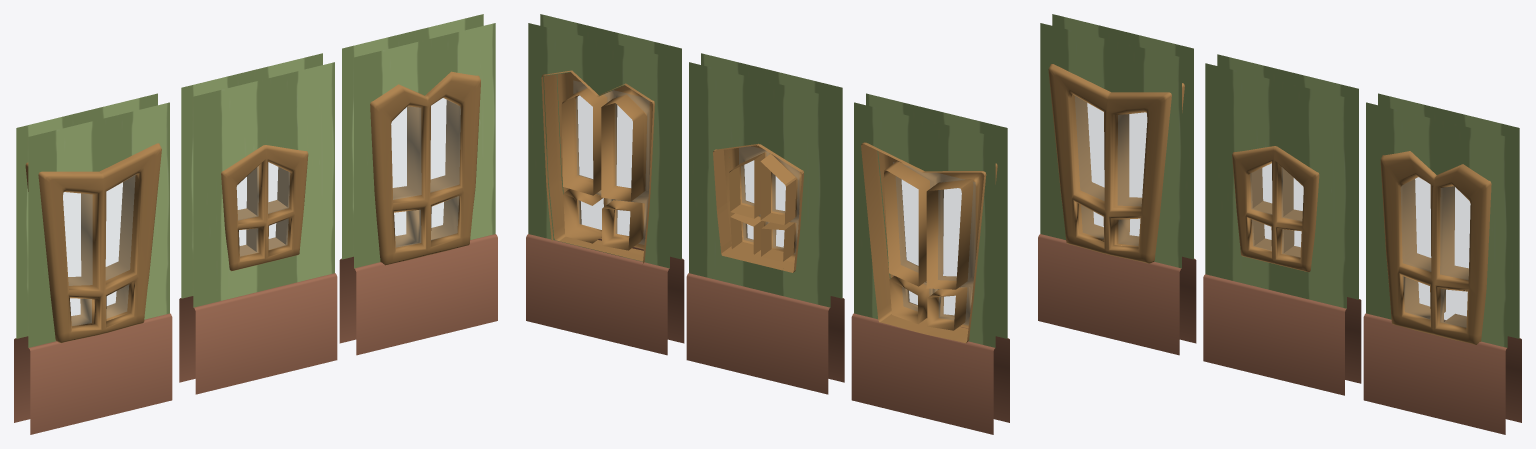
File: VENTANAS.fbx
3 views of the same model, side by side, from view 1: azimuth 30°, elevation 25°; view 2: azimuth 150°, elevation 25°; view 3: azimuth 330°, elevation 25° (orthographic).
Parts seen in each view (by area): view 1: Props_window2, Props_window6, Cube.002; view 2: Props_window2, Props_window6, Cube.002; view 3: Cube.002, Props_window2, Props_window6.
Boxes of the visible parts, x1,y1,x2,y2 form: Props_window2: (179, 53, 337, 394); Props_window6: (14, 93, 172, 434); Cube.002: (339, 14, 497, 355); Props_window2: (686, 53, 844, 394); Props_window6: (851, 93, 1009, 434); Cube.002: (526, 14, 684, 355); Cube.002: (1363, 93, 1521, 434); Props_window2: (1203, 54, 1361, 395); Props_window6: (1038, 14, 1196, 355).
Bounding box in the file's own units: 990 × 600 × 69.1.
